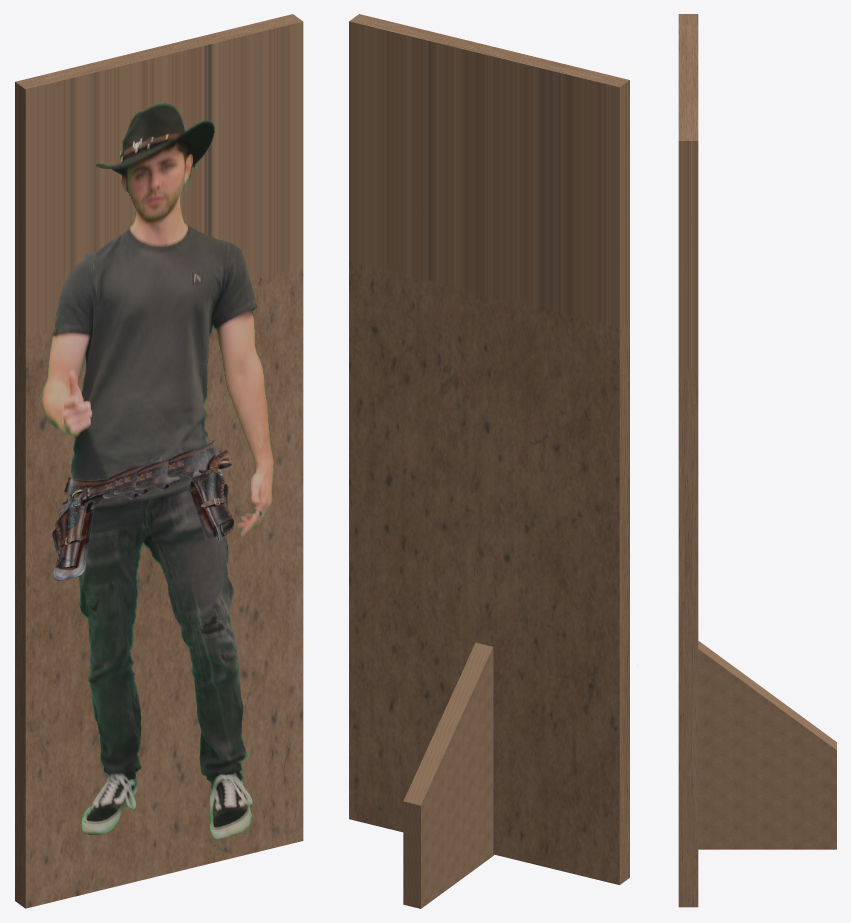
3 views of the same model, side by side, from view 1: azimuth 30°, elevation 25°; view 2: azimuth 150°, elevation 25°; view 3: azimuth 270°, elevation 25° (orthographic). The views are drawn at different scales.
Visible parts, largest first — view 1: Cube, 4-shoot; view 2: Cube, Cube.001; view 3: Cube.001, Cube.
Boxes of the visible parts, x1,y1,x2,y2 form: Cube: (15,14,303,908); 4-shoot: (22,103,273,839); Cube: (349,14,629,884); Cube.001: (403,642,493,908); Cube.001: (698,641,836,849); Cube: (678,14,698,907).
Bounding box in the file's own units: 512 × 1316 × 253.
